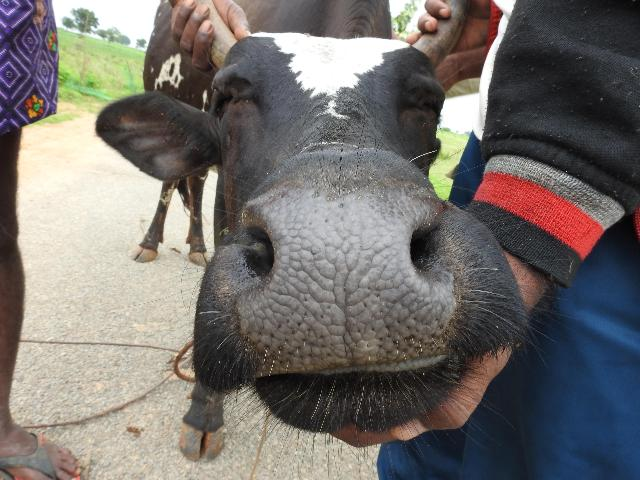Muzzle: (260, 204, 432, 359)
